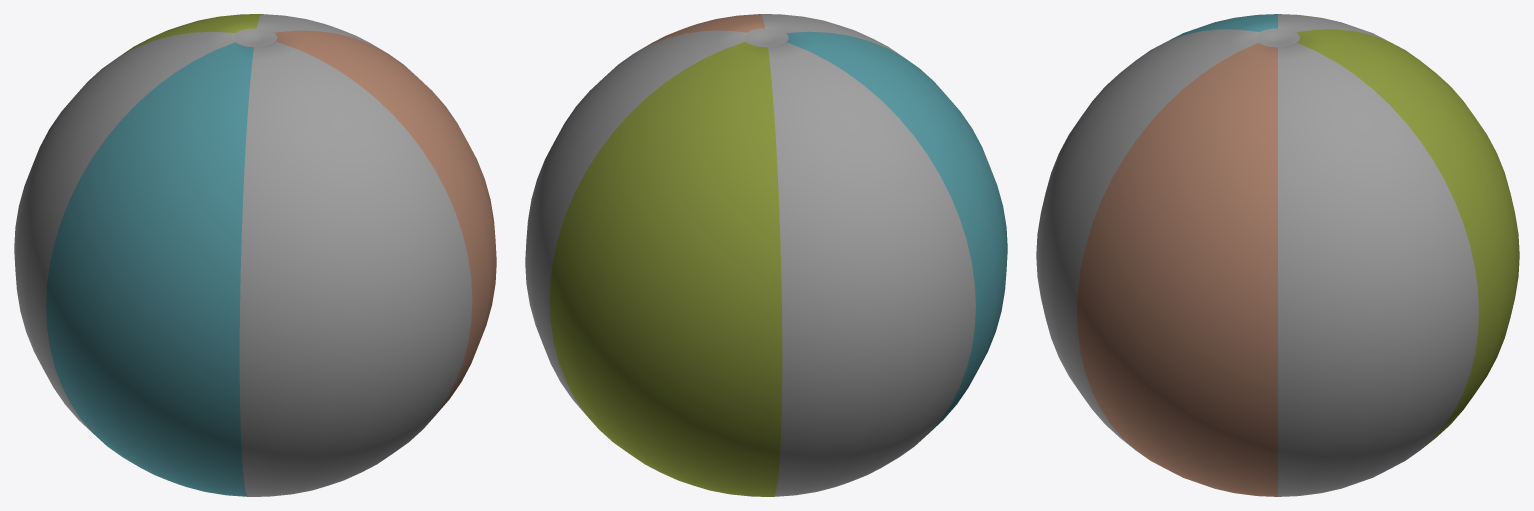
File: hidden_newBall.glb
3 renders of one model, left to right at view 1: azimuth 30°, elevation 25°; view 2: azimuth 150°, elevation 25°; view 3: azimuth 270°, elevation 25°, orthographic.
Visible parts, largest first — view 1: Sphere; view 2: Sphere; view 3: Sphere.
Boxes of the visible parts, x1=… form: Sphere: x1=14, y1=14, x2=496, y2=496; Sphere: x1=525, y1=14, x2=1007, y2=496; Sphere: x1=1036, y1=14, x2=1519, y2=496.
Size of the model in its own units: 0.6789 by 0.6756 by 0.6789.
